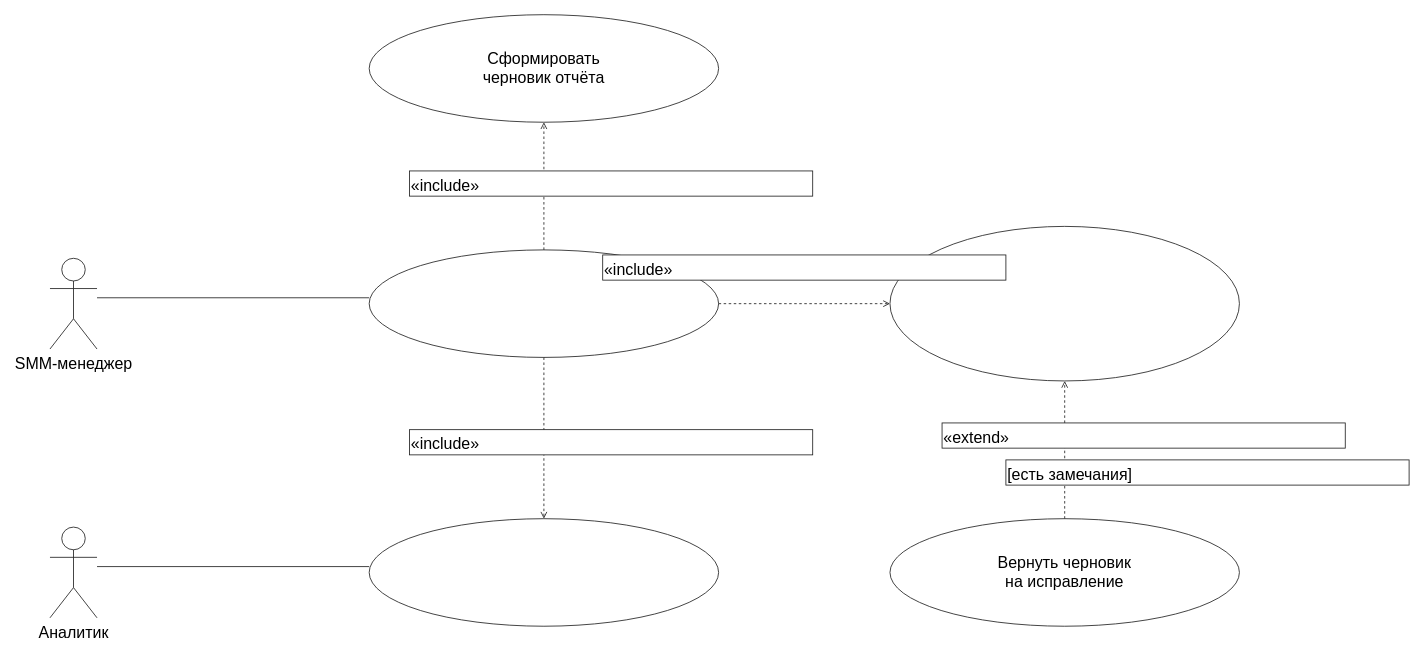
Some shapes in this 1424 by 658 pixel diagram are drawn without their labels. Here are the shapes that lost their labels. From the top down, the box of each, then its label:
(368, 249, 719, 357): Подготовить и опубликовать отчёт
(889, 226, 1239, 381): Проверить и опубликовать отчёт точка расширения: передПубликацией
(368, 518, 719, 626): Сохранить выводы аналитика
